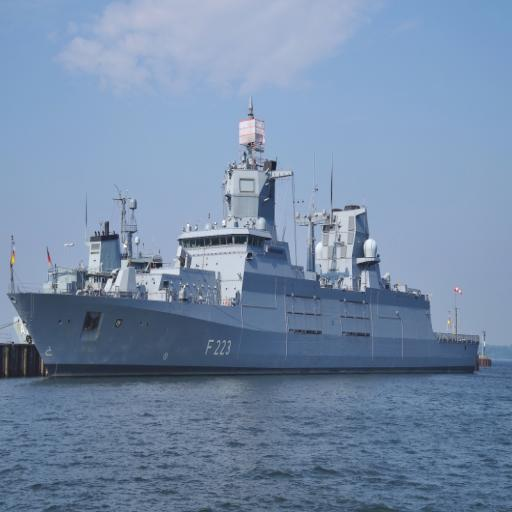Fragata: (2, 84, 484, 378)
